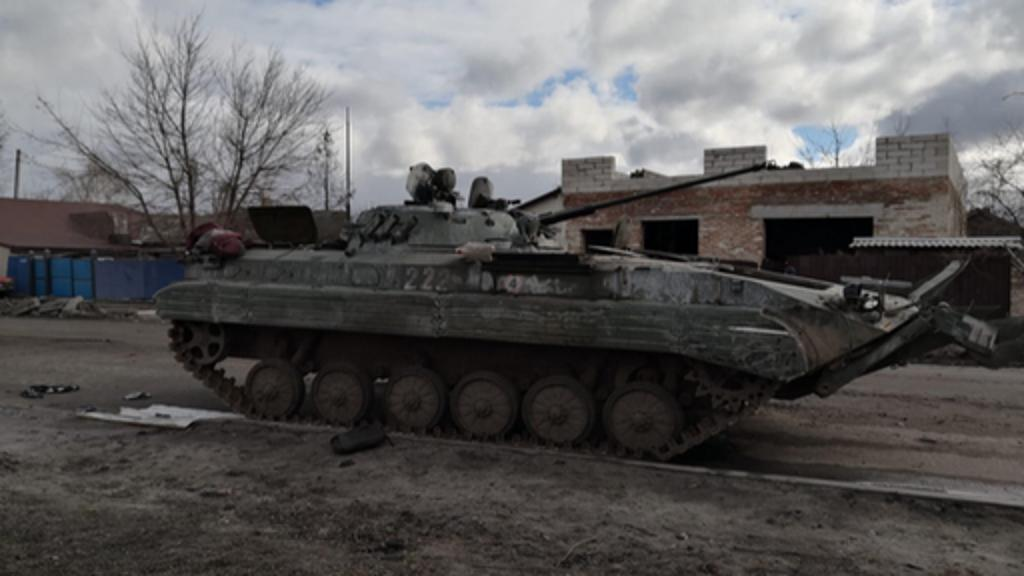APC-IFV: (148, 142, 966, 478)
